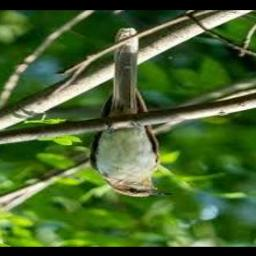Cuckoo: (90, 30, 175, 197)
